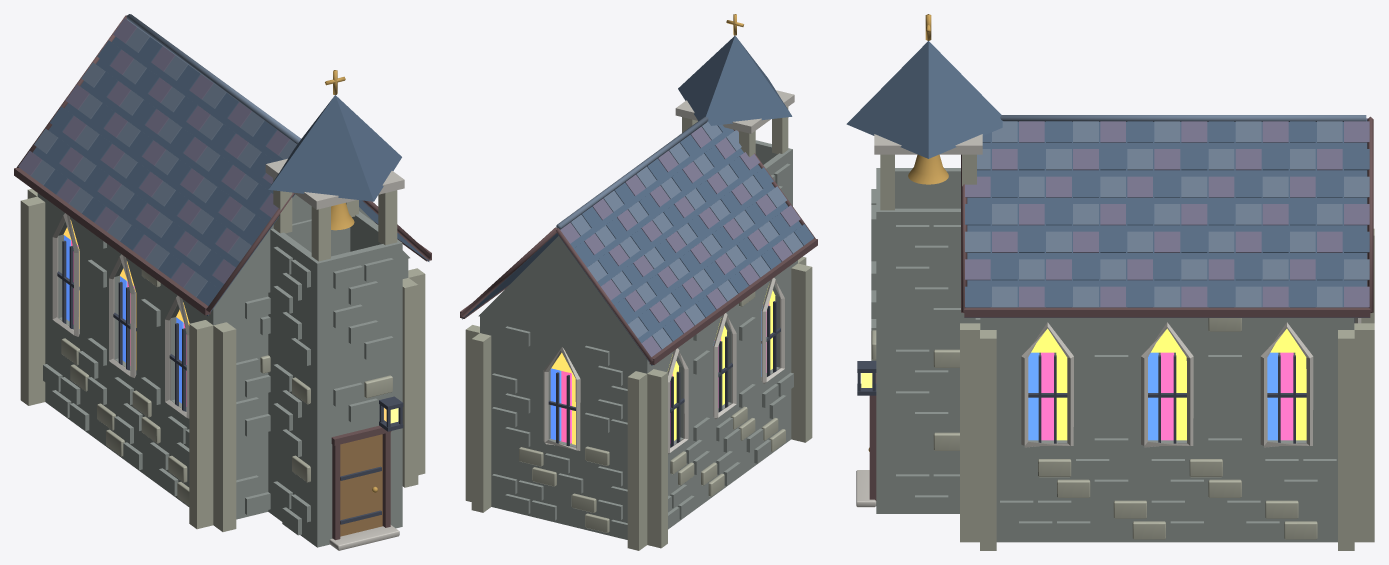
File: chapel.glb
3 renders of one model, left to right at view 1: azimuth 30°, elevation 25°; view 2: azimuth 150°, elevation 25°; view 3: azimuth 270°, elevation 25°, orthographic. The views are drawn at different scales.
Parts seen in each view (by area): view 1: Chapel_nave_thick_slate_slope, Chapel_front_tower.007, Chapel_slate_spire, Chapel_corner_buttress.006, Chapel_corner_buttress.007, Chapel_corner_buttress, Chapel_front_tower.002, Chapel_front_tower.001, Chapel_entry_oak_door, Chapel_corner_buttress.001, Chapel_nave_fieldstone.042, Chapel_nave_fieldstone.037 (+39 smaller); view 2: Chapel_stone_gable.001, Chapel_nave_thick_slate_slope, Chapel_slate_spire, Chapel_nave_fieldstone.024, Chapel_corner_buttress.007, Chapel_corner_buttress.006, Chapel_corner_buttress.004, Chapel_corner_buttress.005, Chapel_nave_fieldstone.029, Chapel_nave_fieldstone.037, Chapel_nave_fieldstone.042, Chapel_nave_fieldstone.023 (+26 smaller); view 3: Chapel_nave_thick_slate_slope.001, Chapel_front_tower.005, Chapel_slate_spire, Chapel_nave_fieldstone.016, Chapel_nave_fieldstone.011, Chapel_corner_buttress.004, Chapel_nave_eave_fascia.001, Chapel_corner_buttress.001, Chapel_nave_fieldstone.015, Chapel_nave_fieldstone.010, Chapel_corner_buttress.003, Chapel_corner_buttress.002 (+66 smaller).
Boxes of the visible parts, box(x1,y1,x2,y2) form: Chapel_nave_thick_slate_slope: box(33, 36, 295, 315); Chapel_front_tower.007: box(272, 230, 324, 547); Chapel_slate_spire: box(268, 95, 401, 201); Chapel_corner_buttress.006: box(20, 196, 45, 405); Chapel_corner_buttress.007: box(189, 320, 213, 529); Chapel_corner_buttress: box(213, 322, 236, 531); Chapel_front_tower.002: box(334, 245, 382, 435); Chapel_front_tower.001: box(313, 256, 337, 445); Chapel_entry_oak_door: box(340, 434, 382, 536); Chapel_corner_buttress.001: box(402, 278, 418, 487); Chapel_nave_fieldstone.042: box(136, 265, 176, 400); Chapel_nave_fieldstone.037: box(80, 224, 119, 359); Chapel_stone_gable.001: box(478, 236, 644, 356); Chapel_nave_thick_slate_slope: box(557, 128, 801, 365); Chapel_slate_spire: box(678, 35, 792, 125); Chapel_nave_fieldstone.024: box(480, 328, 550, 439); Chapel_corner_buttress.007: box(791, 263, 812, 442); Chapel_corner_buttress.006: box(647, 369, 667, 548); Chapel_corner_buttress.004: box(471, 333, 491, 512); Chapel_corner_buttress.005: box(627, 371, 647, 550); Chapel_nave_fieldstone.029: box(579, 352, 650, 459); Chapel_nave_fieldstone.037: box(679, 322, 713, 437); Chapel_nave_fieldstone.042: box(727, 287, 761, 402); Chapel_nave_fieldstone.023: box(491, 427, 547, 520); Chapel_nave_thick_slate_slope.001: box(964, 119, 1369, 317); Chapel_front_tower.005: box(876, 208, 975, 513); Chapel_slate_spire: box(846, 41, 1002, 158); Chapel_nave_fieldstone.016: box(1190, 323, 1263, 442); Chapel_nave_fieldstone.011: box(1070, 323, 1144, 442); Chapel_corner_buttress.004: box(1354, 323, 1374, 542); Chapel_nave_eave_fascia.001: box(964, 307, 1370, 317); Chapel_corner_buttress.001: box(960, 323, 980, 542); Chapel_nave_fieldstone.015: box(1190, 443, 1263, 542); Chapel_nave_fieldstone.010: box(1070, 443, 1144, 542); Chapel_corner_buttress.003: box(1338, 329, 1354, 550); Chapel_corner_buttress.002: box(980, 330, 996, 550).
Bounding box in the file's own units: 5.62 × 10.55 × 10.6.
